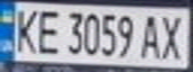0: (81, 9, 103, 56)
3: (60, 8, 84, 56)
5: (100, 10, 121, 57)
9: (115, 11, 139, 58)
A: (136, 11, 163, 60)
E: (33, 6, 63, 56)
K: (9, 4, 42, 54)
X: (157, 11, 190, 61)
